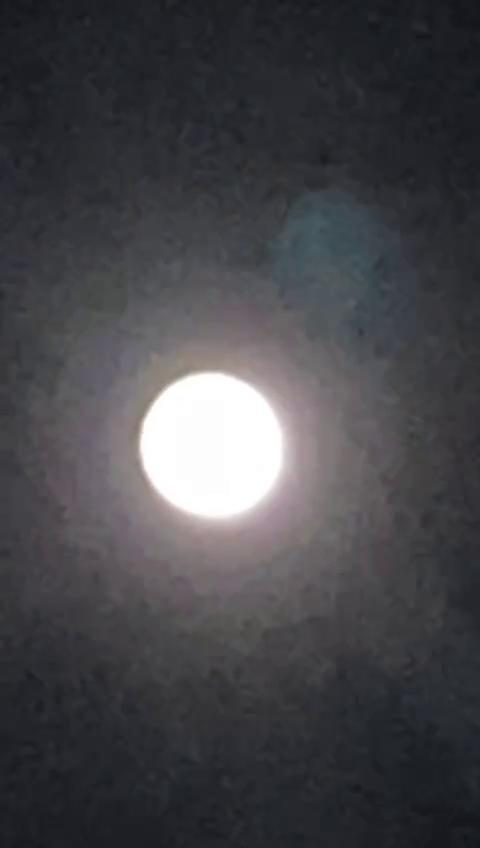moon: (143, 337, 310, 528)
